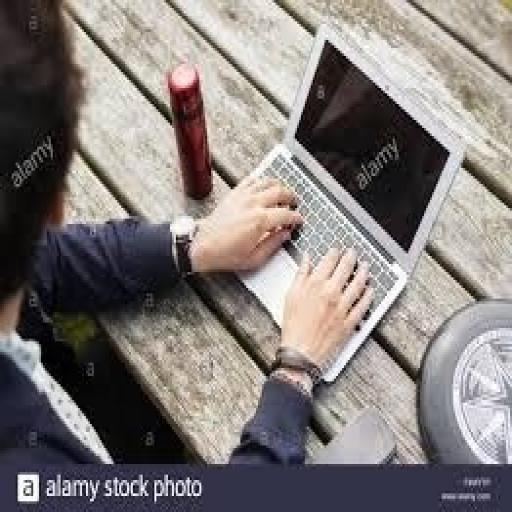using_laptop: (227, 19, 467, 384)
